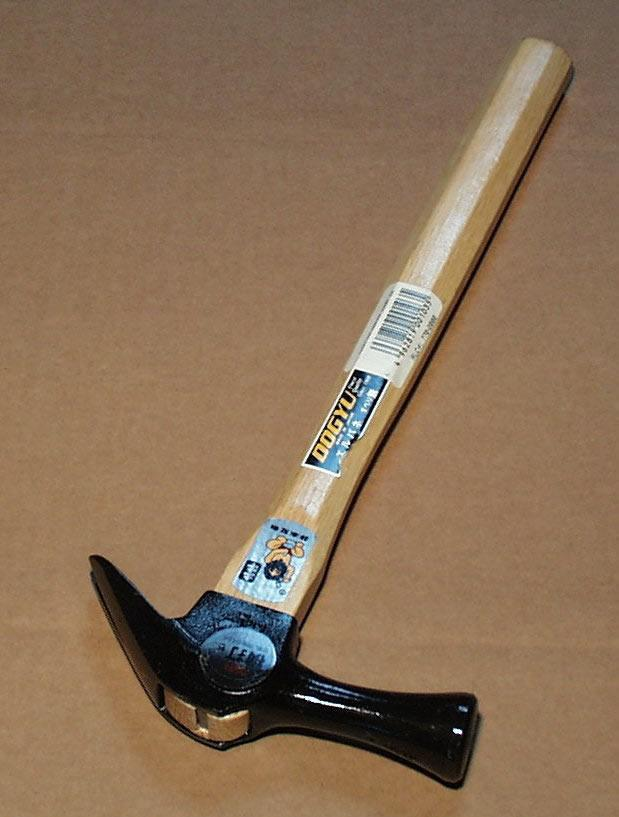hammer: (89, 32, 575, 794)
